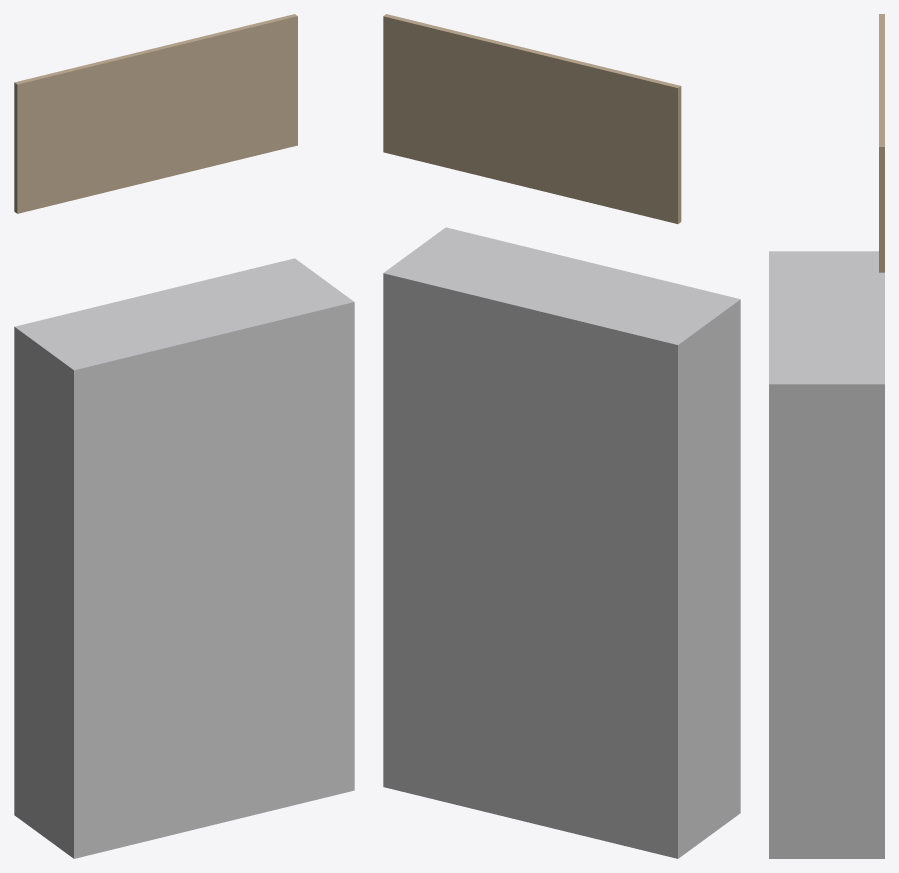
The model's file is house_plus_second_floor.glb.
3 renders of one model, left to right at view 1: azimuth 30°, elevation 25°; view 2: azimuth 150°, elevation 25°; view 3: azimuth 270°, elevation 25°, orthographic. The views are drawn at different scales.
Visible parts, largest first — view 1: proposed_second_floor, proposed_bay_terrace; view 2: proposed_second_floor, proposed_bay_terrace; view 3: proposed_second_floor, proposed_bay_terrace.
Boxes of the visible parts, <box> form: proposed_second_floor: <box>14,258,354,858</box>; proposed_bay_terrace: <box>14,14,297,213</box>; proposed_second_floor: <box>383,227,740,858</box>; proposed_bay_terrace: <box>383,14,681,223</box>; proposed_second_floor: <box>769,251,884,858</box>; proposed_bay_terrace: <box>879,14,884,272</box>.
Size of the model in its own units: 0.5027 by 1.26 by 0.1852.
